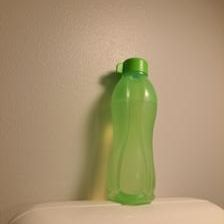bottle: (105, 54, 158, 206)
